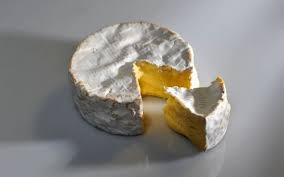camembert: (67, 19, 233, 154)
